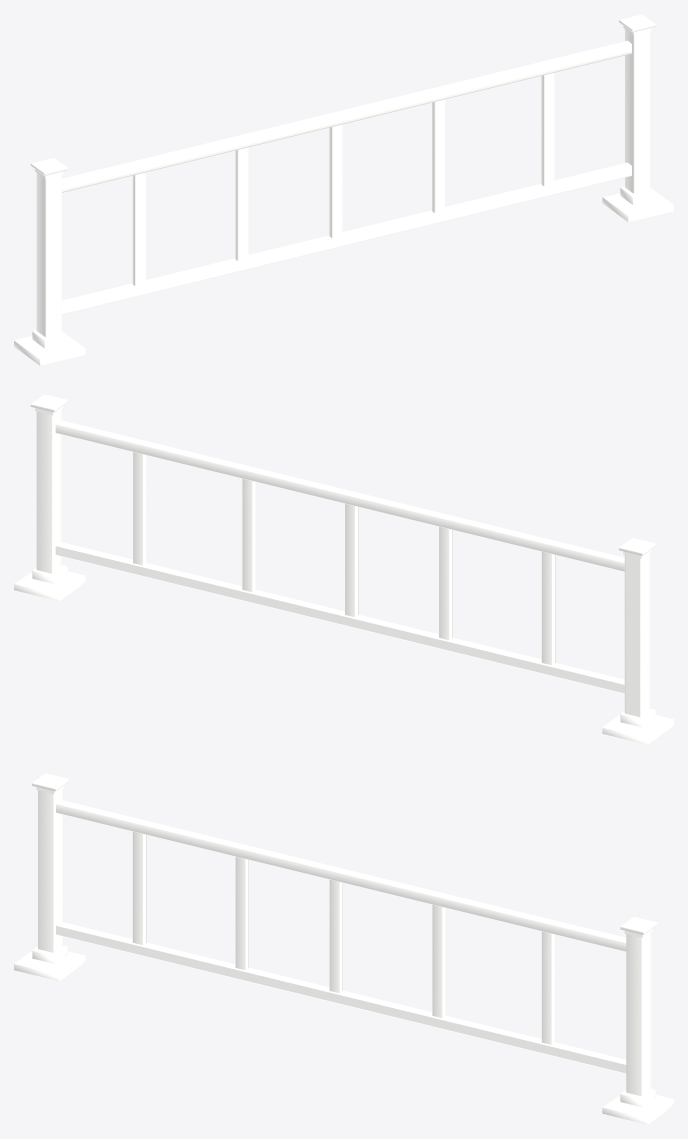
File: Traffic_Barrier.glb
3 renders of one model, top to bottom at view 1: azimuth 30°, elevation 25°; view 2: azimuth 150°, elevation 25°; view 3: azimuth 330°, elevation 25°, orthographic.
Visible parts, largest first — view 1: Traffic_Barrier; view 2: Traffic_Barrier; view 3: Traffic_Barrier.
Part boxes in pixels (box(x1,y1,x2,y2)): Traffic_Barrier: box(14, 14, 673, 365); Traffic_Barrier: box(14, 394, 673, 744); Traffic_Barrier: box(14, 773, 673, 1124).
Size of the model in its own units: 4.37 by 1.22 by 0.3162.
1 material, 1 textured.
